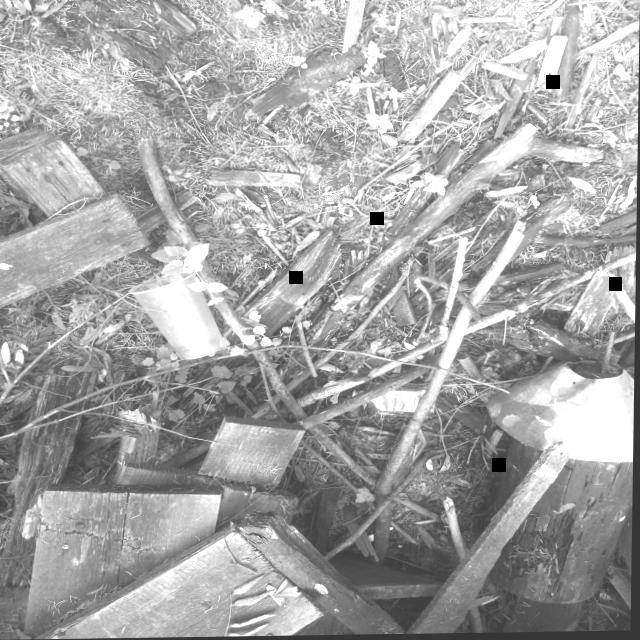Disposable plastic cup: (129, 272, 223, 360)
Scrap metal: (488, 364, 635, 464)
